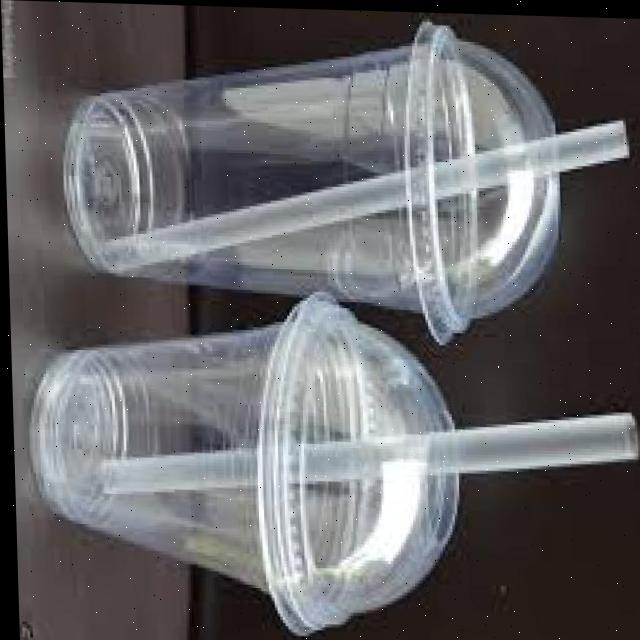cup: (48, 9, 493, 343), (21, 278, 373, 631)
